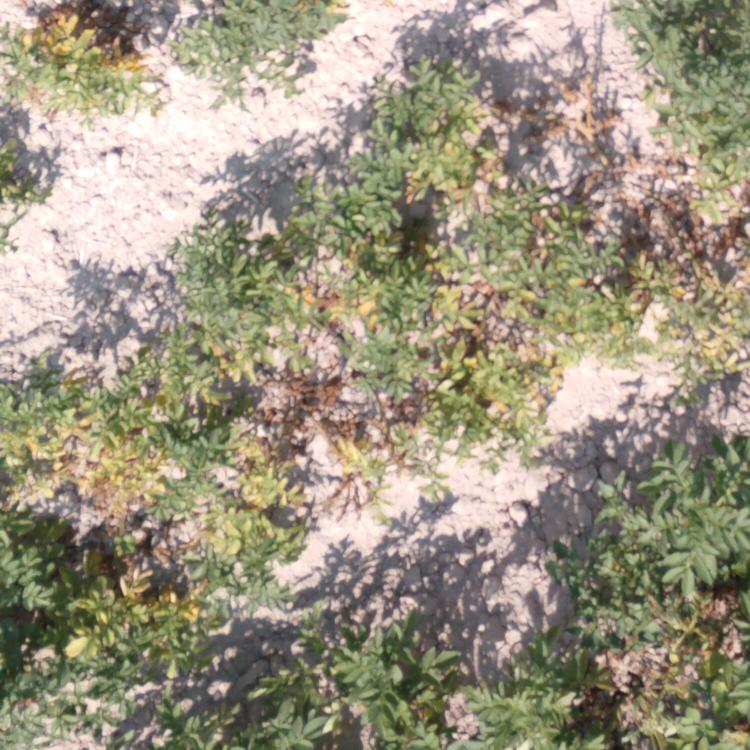healthy: (208, 629, 457, 740), (612, 442, 749, 622), (478, 647, 743, 733), (612, 4, 750, 153), (183, 1, 320, 97)
stressed: (1, 358, 173, 556), (190, 207, 398, 352), (612, 171, 750, 373), (1, 566, 195, 698), (347, 62, 511, 177), (419, 289, 551, 431), (198, 374, 297, 556), (6, 1, 144, 124), (415, 182, 588, 267), (316, 370, 406, 497), (1, 151, 61, 222)
